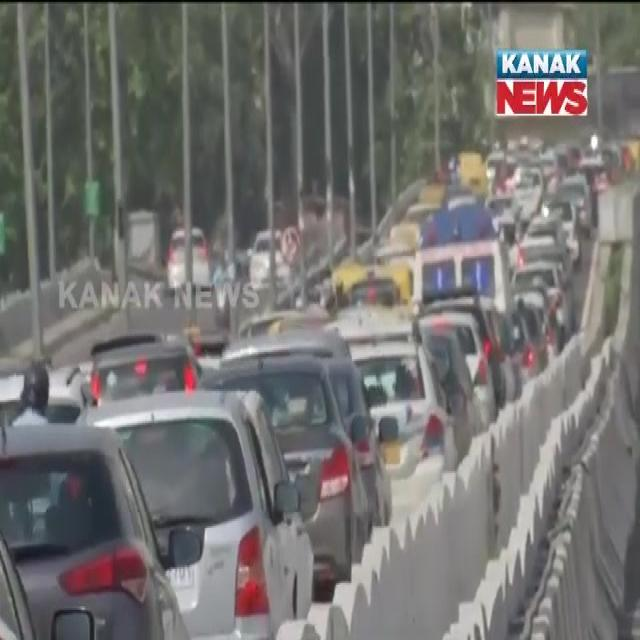ambulance: (406, 203, 509, 298)
